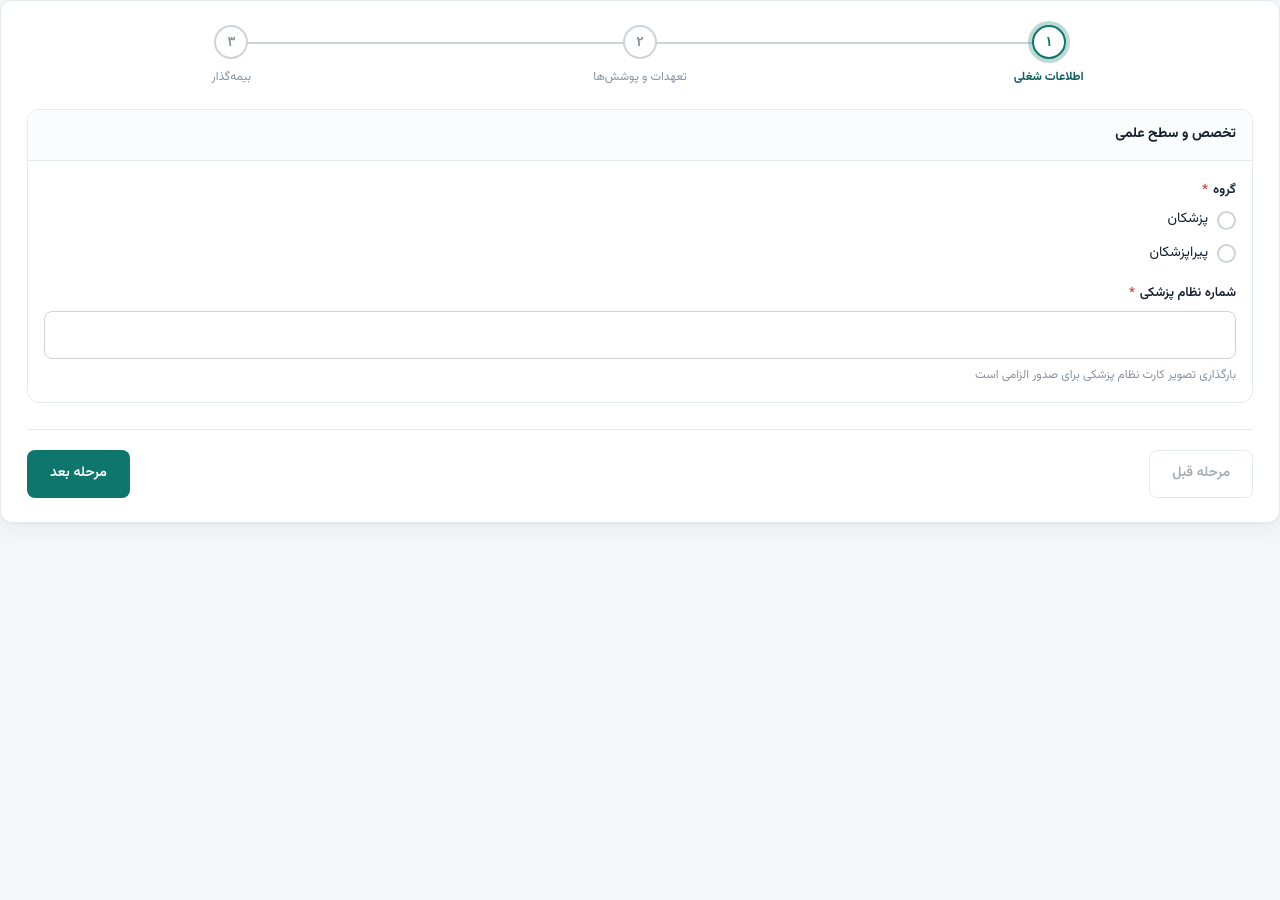
Test case: medical-liability wizard branching › shows only the physician fields after picking پزشکان
The image size is (1280, 900).
Check: the text "گروه‌بندی شغلی پزشکان" is not shown
What coordinates should you click on to do the following:
click the text "پزشکان"
I would click on:
 (1188, 220)
Its box is x1=1168 y1=208 x2=1208 y2=232.
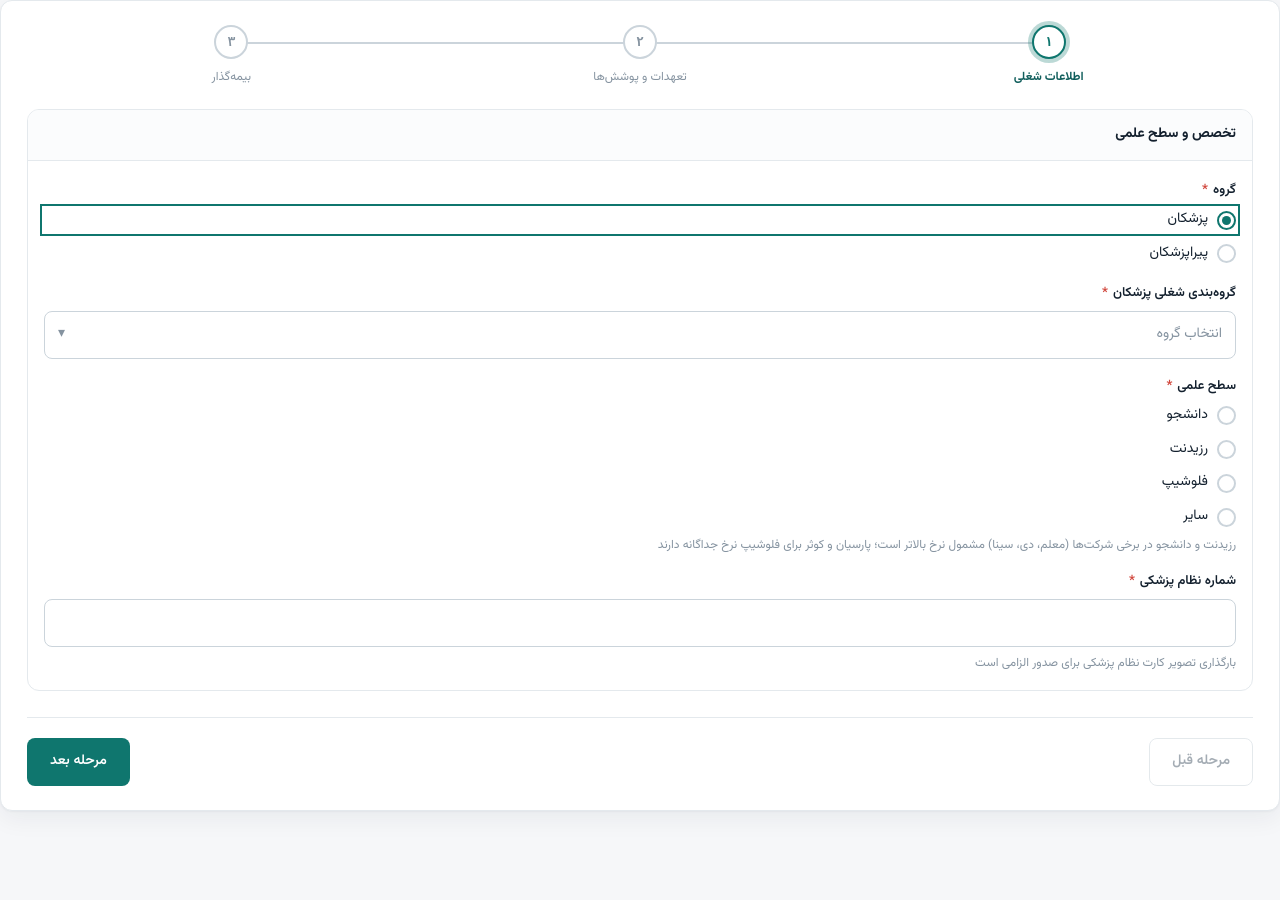
Check: the text "گروه‌بندی شغلی پزشکان" is shown, box x1=1113 y1=283 x2=1236 y2=303
Check: the text "فلوشیپ" is shown, box x1=1162 y1=472 x2=1208 y2=495
